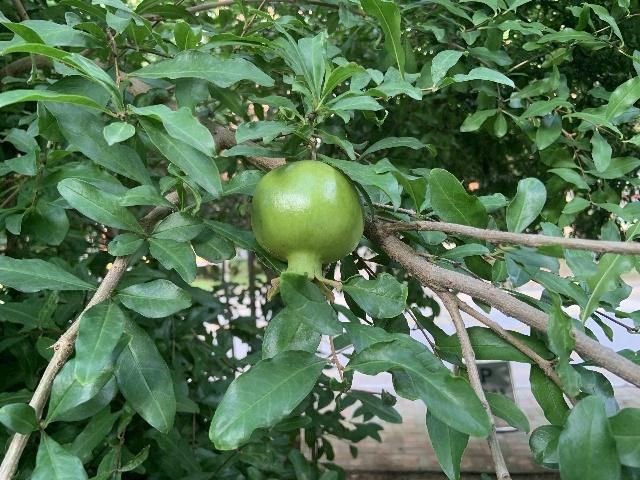mid-growth: (250, 160, 364, 303)
